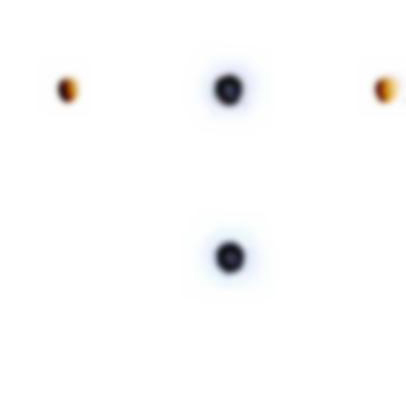cancer: (198, 221, 268, 292), (196, 63, 266, 128)
normal: (352, 65, 406, 114), (46, 69, 99, 114)
